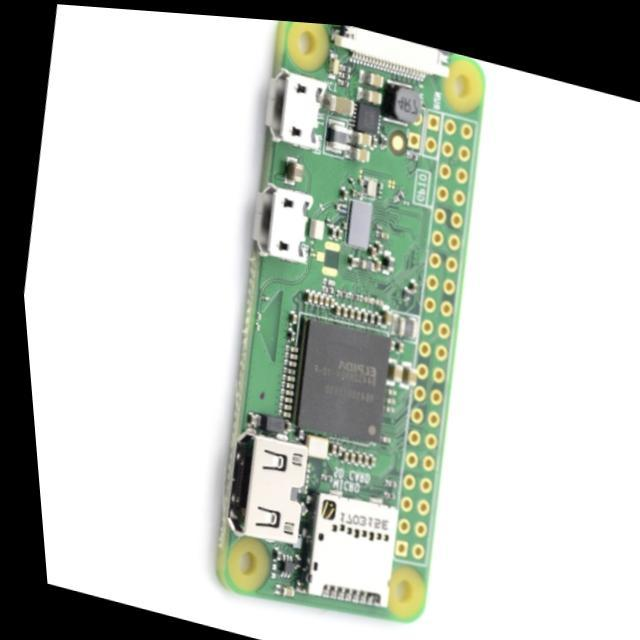Raspberry-Pi-Zero-W: (218, 23, 484, 622)
